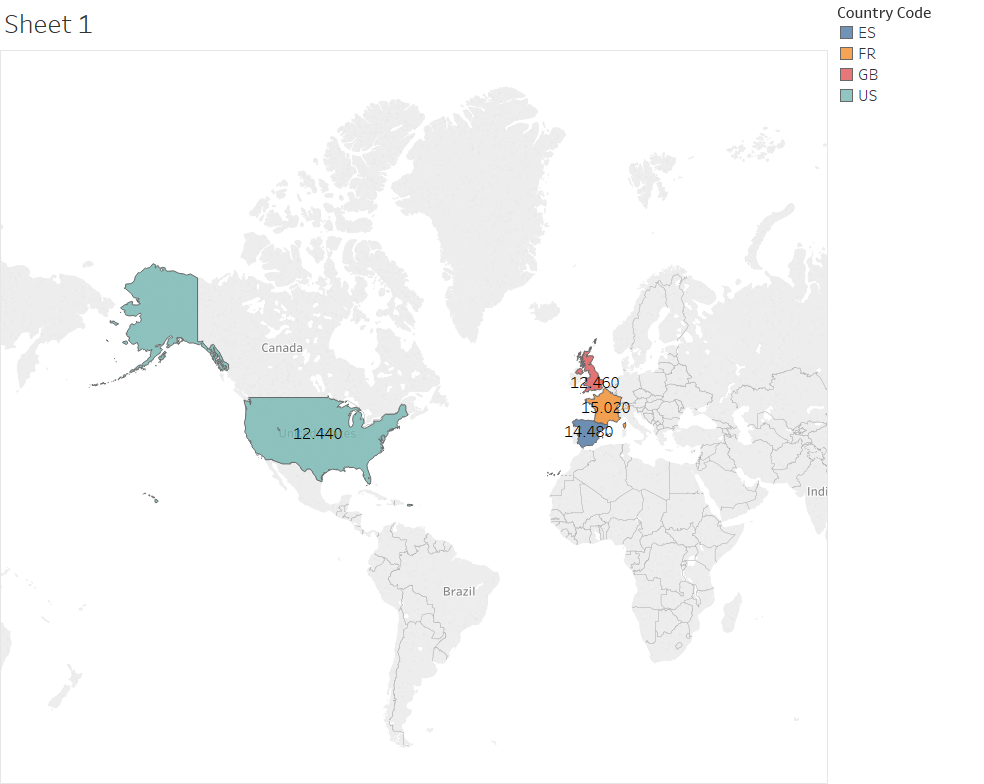

Layout of this report page (visuals, bound fields, positions):
{"tool":"tableau","page":{"name":"Dashboard 2","canvas":[1000,800],"ordinal":1},"visuals":[{"type":"worksheet","title":"Sheet 1","mark":"Multipolygon","box":[0,0,840,800]},{"type":"legend","title":"Sheet 1","param":"[federated.0d6a49u050bbw511c6dsz1n2pdga].[none:CountryCode:nk]","box":[840,0,160,118]}]}

Visuals, with their boxes in screenshot pixels (x1, y1, x2, y2), scaled from the page's 1000x800 canvas onto the 984x784 screenshot:
"Sheet 1" worksheet (Multipolygon marks): rect(0, 0, 827, 783)
"Sheet 1" legend: rect(827, 0, 983, 116)
